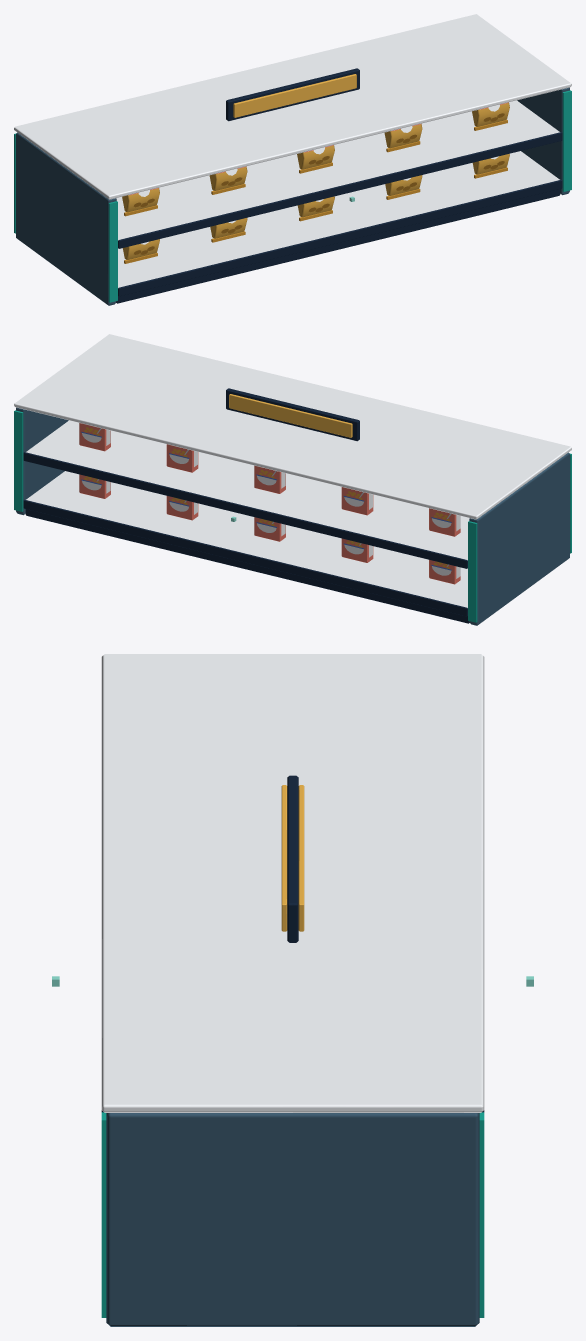
File: CM_Shelf_Double_Aisle.fbx
The picture shows the model from 3 angles, top to bottom: view 1: azimuth 30°, elevation 25°; view 2: azimuth 150°, elevation 25°; view 3: azimuth 270°, elevation 25°; orthographic projection. The views are drawn at different scales.
Visible parts, largest first — view 1: Body, PriceTag, Item9, Item7, Item10, Item6, Item8, Item4, Item2, Item1, Item5, Item3; view 2: Body, PriceTagBack, Item19, Item17, Item16, Item18, Item20, Item12, Item14, Item13, Item11, Item15; view 3: Body, PriceTag, PriceTagBack.
Boxes of the visible parts, box(x1,y1,x2,y2) form: Body: box(14, 14, 571, 305); PriceTag: box(233, 74, 356, 117); Item9: box(384, 123, 422, 152); Item7: box(209, 166, 247, 194); Item10: box(472, 102, 509, 130); Item6: box(122, 188, 159, 216); Item8: box(297, 145, 334, 173); Item4: box(385, 175, 422, 199); Item2: box(210, 218, 247, 242); Item1: box(122, 239, 159, 263); Item5: box(472, 153, 509, 178); Item3: box(297, 196, 334, 221); Body: box(14, 334, 571, 625); PriceTagBack: box(229, 394, 352, 437); Item19: box(166, 444, 198, 472); Item17: box(341, 487, 373, 515); Item16: box(429, 508, 460, 536); Item18: box(254, 465, 285, 493); Item20: box(79, 423, 110, 451); Item12: box(341, 538, 373, 562); Item14: box(166, 496, 198, 520); Item13: box(254, 517, 285, 541); Item11: box(429, 560, 460, 584); Item15: box(79, 474, 110, 498); Body: box(101, 654, 484, 1326); PriceTag: box(281, 785, 287, 931); PriceTagBack: box(298, 785, 304, 931).
Size of the model in its own units: 28 by 12.6 by 7.6.
1 material, 1 textured.
